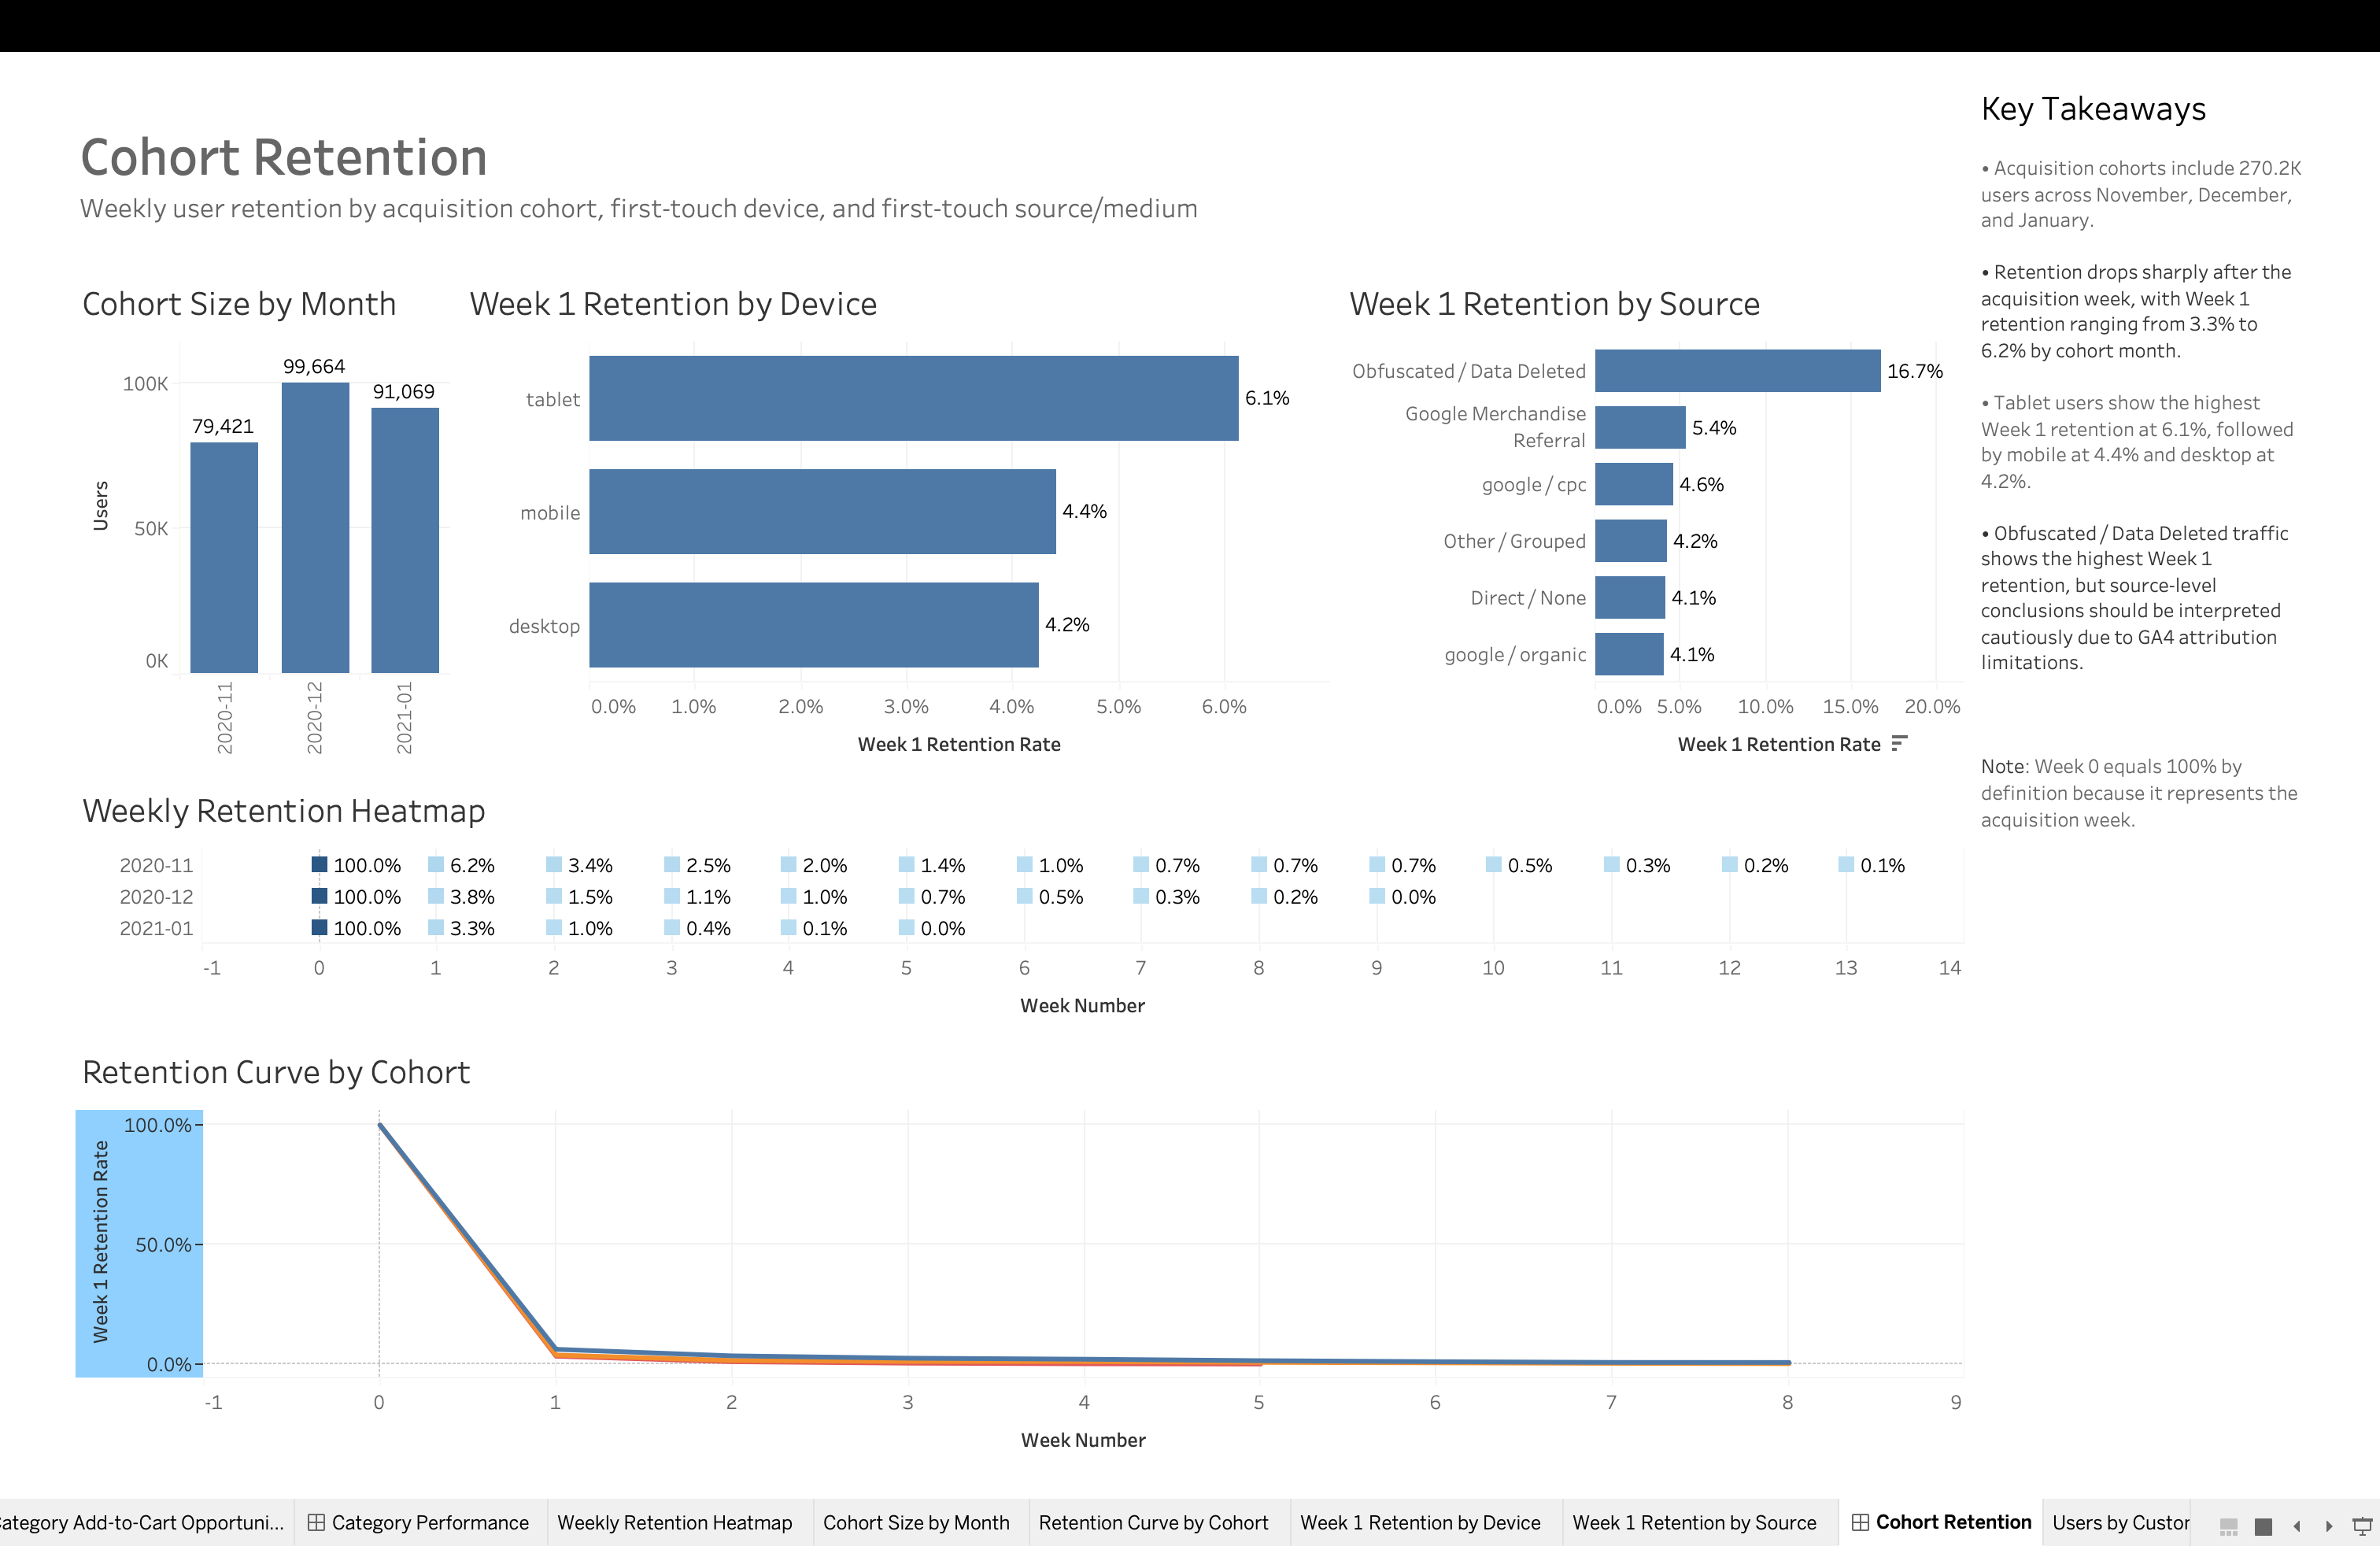

What the dashboard file says about the page in this screenshot:
{"tool":"tableau","page":{"name":"Cohort Retention","canvas":[1440,900],"ordinal":1},"visuals":[{"type":"text","box":[8,8,1208,120]},{"type":"text","box":[1216,8,216,884]},{"type":"worksheet","title":"Cohort Size by Month","mark":"Bar","rows":["Calculation_5156297487302658"],"cols":["cohort_month_label"],"box":[8,128,246,322]},{"type":"worksheet","title":"Week 1 Retention by Device","mark":"Bar","rows":["first_device_category"],"cols":["Calculation_5156297487777795"],"box":[254,128,559,322]},{"type":"worksheet","title":"Week 1 Retention by Source","mark":"Bar","rows":["Calculation_5156297485778945"],"cols":["Calculation_5156297487777795"],"box":[813,128,403,322]},{"type":"worksheet","title":"Weekly Retention Heatmap","mark":"Square","rows":["cohort_month_label"],"cols":["week_number"],"box":[8,450,1208,166]},{"type":"worksheet","title":"Retention Curve by Cohort","mark":"Line","rows":["Calculation_5156297473630208"],"cols":["week_number"],"box":[8,616,1208,276]}]}

Visuals, with their boxes on the page's 1440x900 design canvas (x1, y1, x2, y2). These are canvas units, not pixel positions in the 2380x1546 screenshot, which may show the page scaled, cropped or inside an application window:
text: region(8, 8, 1216, 128)
text: region(1216, 8, 1432, 892)
"Cohort Size by Month" worksheet (Bar marks): region(8, 128, 254, 450)
"Week 1 Retention by Device" worksheet (Bar marks): region(254, 128, 813, 450)
"Week 1 Retention by Source" worksheet (Bar marks): region(813, 128, 1216, 450)
"Weekly Retention Heatmap" worksheet (Square marks): region(8, 450, 1216, 616)
"Retention Curve by Cohort" worksheet (Line marks): region(8, 616, 1216, 892)
